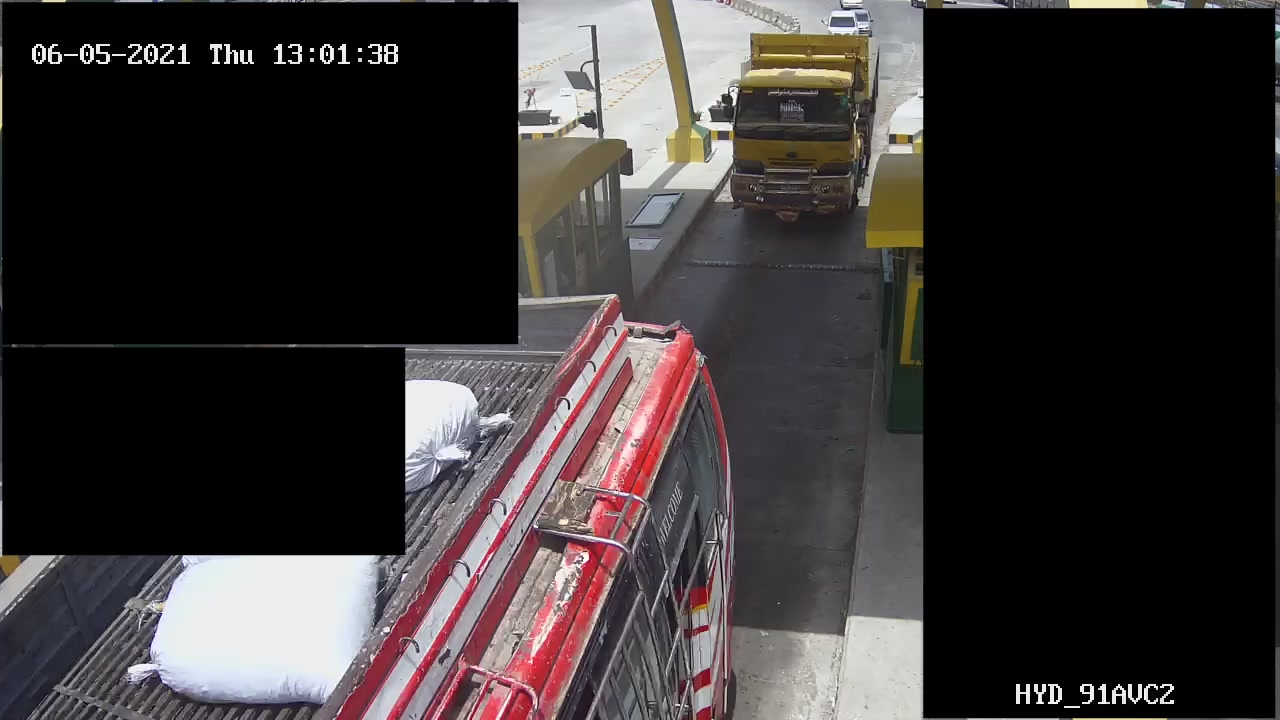F5: (713, 22, 881, 235)
